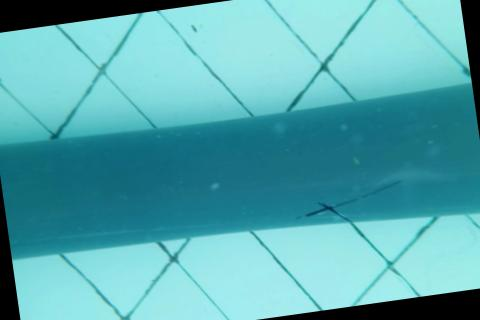keretakan: (297, 179, 407, 226)
